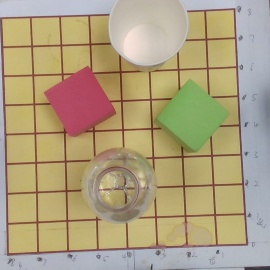bottle: (82, 150, 158, 223)
cup: (106, 1, 189, 75)
